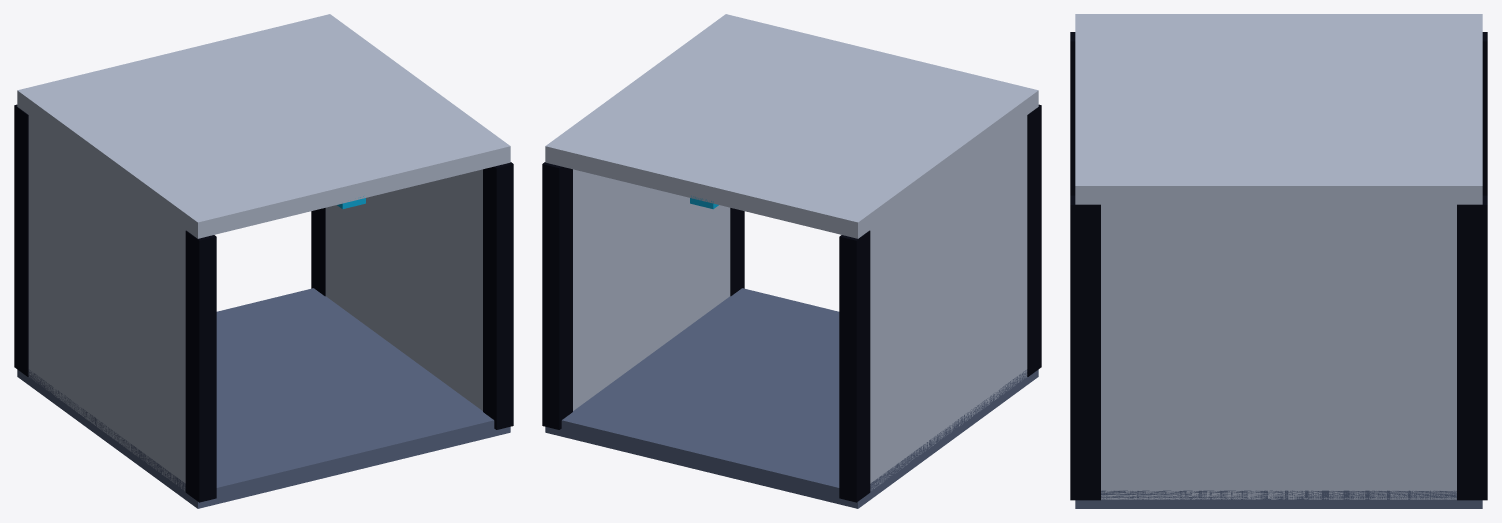
The model's file is corridor_straight.obj.
3 views of the same model, side by side, from view 1: azimuth 30°, elevation 25°; view 2: azimuth 150°, elevation 25°; view 3: azimuth 270°, elevation 25° (orthographic). The views are drawn at different scales.
Parts seen in each view (by area): view 1: corridor_straight; view 2: corridor_straight; view 3: corridor_straight.
Part boxes in pixels (left/top/right/bottom): corridor_straight: left=14, top=14, right=513, bottom=508; corridor_straight: left=542, top=14, right=1041, bottom=508; corridor_straight: left=1070, top=14, right=1487, bottom=508.
Size of the model in its own units: 4.02 by 3.5 by 4.1.
